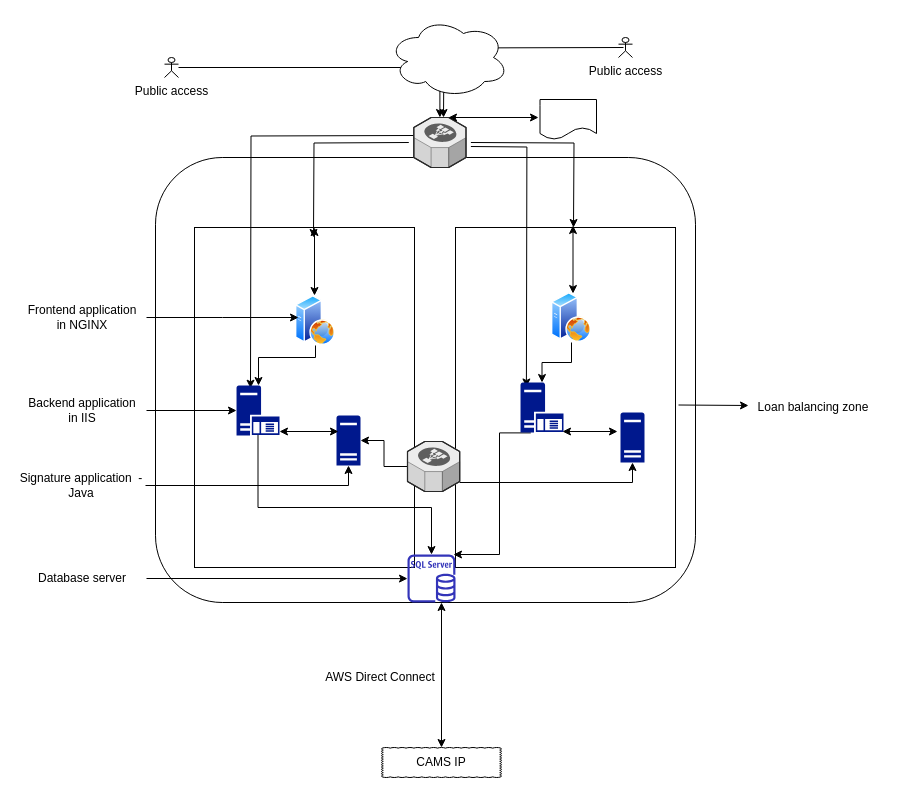
Some shapes in this 915 by 795 pixel diagram are drawn without their labels. The shapes that lost their labels are listed below. From the top down, each one's centre as x and y in pixels, then its label:
point (448, 57): On internet www.camsfinserv.com
point (567, 119): WAF
